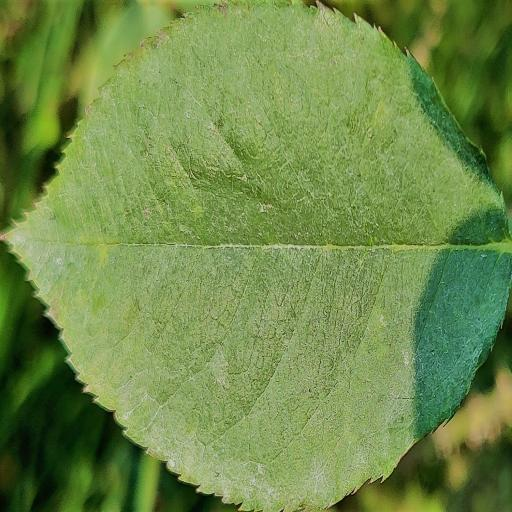healthy_leaf: (4, 1, 512, 511)
